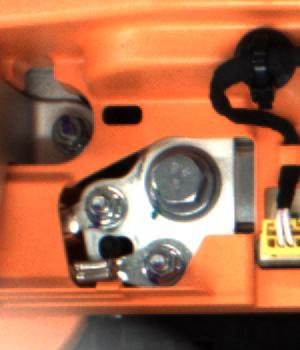nut_b: (134, 140, 231, 227)
screw_s: (143, 241, 182, 290), (50, 111, 89, 150), (85, 185, 123, 224)
